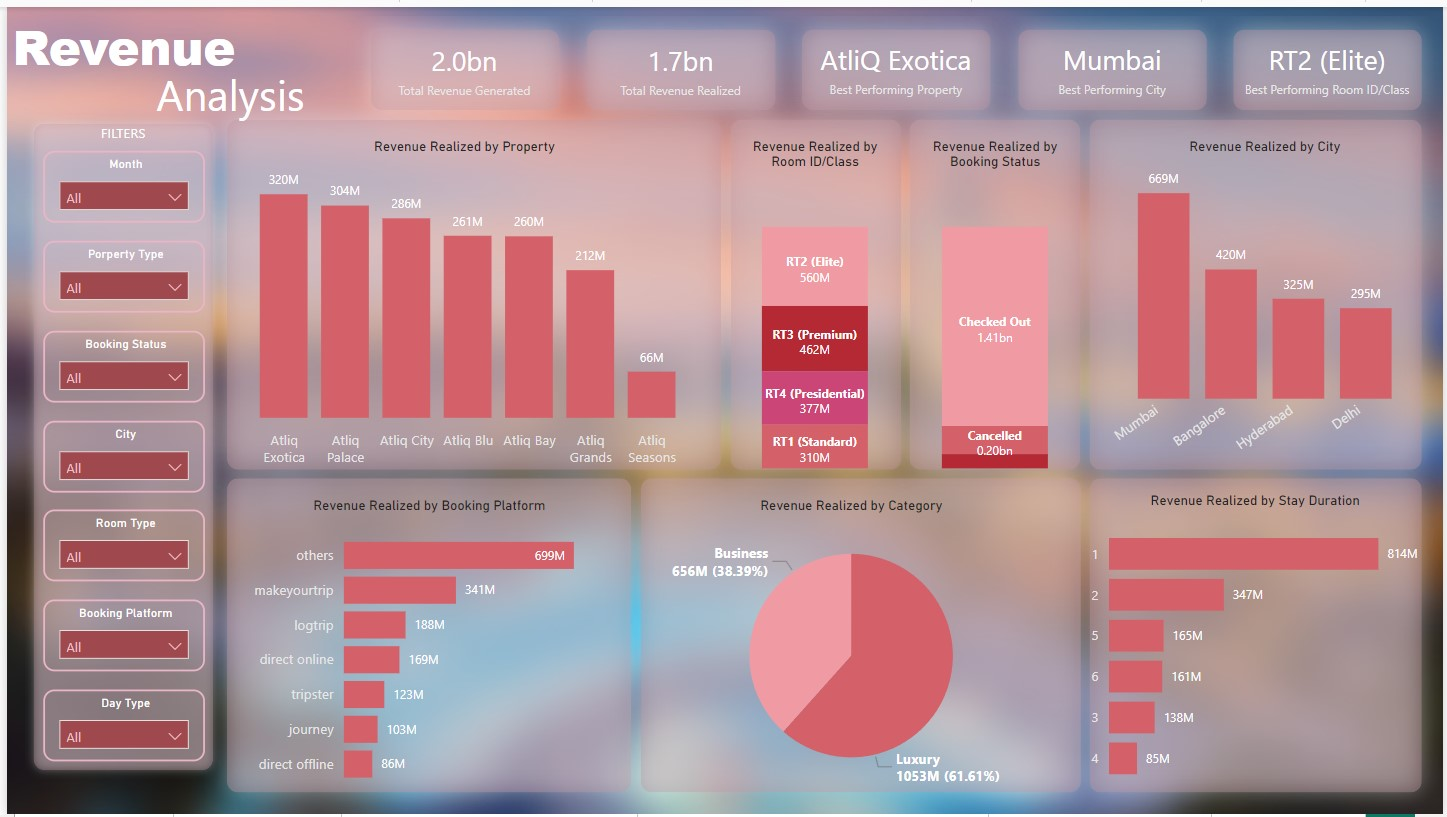

The dashboard page shown, as its layout file describes it:
{"tool":"powerbi","page":{"name":"Revenue Analysis","canvas":[1280,720],"ordinal":1},"visuals":[{"type":"shape","title":"Filters","box":[176,400,400,320],"z":0},{"type":"shape","title":"Filters","box":[544,400,432,320],"z":1000},{"type":"shape","title":"Filters","box":[944,400,336,320],"z":2000},{"type":"shape","title":"Filters","box":[944,80,336,352],"z":3000},{"type":"shape","title":"Filters","box":[784,80,192,352],"z":4000},{"type":"shape","title":"Filters","box":[624,80,192,352],"z":5000},{"type":"shape","title":"Filters","box":[304,0,208,112],"z":6000},{"type":"shape","title":"Filters","box":[496,0,208,112],"z":7000},{"type":"shape","title":"Filters","box":[688,0,208,112],"z":8000},{"type":"shape","title":"Filters","box":[880,0,208,112],"z":9000},{"type":"shape","title":"Filters","box":[1072,0,208,112],"z":10000},{"type":"shape","title":"Filters","box":[176,80,480,352],"z":11000},{"type":"shape","title":"Filters","box":[16,96,176,592],"z":12000},{"type":"barChart","title":"Revenue Realized by Booking Platform","fields":{"Category":["bookings.booking_platform"],"Y":["Sum(bookings.revenue_realized)"]},"box":[208,432,336,272],"z":13000},{"type":"columnChart","title":"Revenue Realized by Booking Status","fields":{"Y":["Sum(bookings.revenue_realized)"],"Series":["bookings.booking_status"]},"box":[816,112,128,304],"z":14000},{"type":"card","fields":{"Values":["Sum(bookings.revenue_generated)"]},"box":[320,16,176,80],"z":15000},{"type":"columnChart","title":"Revenue Realized by Room ID/Class","fields":{"Y":["Sum(bookings.revenue_realized)"],"Series":["bookings.room_id_class"]},"box":[656,112,128,304],"z":16000},{"type":"clusteredColumnChart","title":"Revenue Realized by Property","fields":{"Category":["agg_book.property_name"],"Y":["Sum(bookings.revenue_realized)"]},"box":[192,112,432,304],"z":17000},{"type":"columnChart","title":"Revenue Realized by City","fields":{"Y":["Sum(bookings.revenue_realized)"],"Category":["agg_book.city"]},"box":[976,112,288,304],"z":18000},{"type":"slicer","title":"City","fields":{"Values":["agg_book.city"]},"box":[32,368,144,64],"z":19000},{"type":"slicer","title":"Porperty Type","fields":{"Values":["agg_book.property_name"]},"box":[32,208,144,64],"z":20000},{"type":"slicer","title":"Booking Platform","fields":{"Values":["bookings.booking_platform"]},"box":[32,528,144,64],"z":21000},{"type":"slicer","title":"Month","fields":{"Values":["agg_book.Month"]},"box":[32,128,144,64],"z":22000},{"type":"slicer","title":"Day Type","fields":{"Values":["agg_book.day_type"]},"box":[32,608,144,64],"z":23000},{"type":"slicer","title":"Booking Status","fields":{"Values":["bookings.booking_status"]},"box":[32,288,144,64],"z":24000},{"type":"slicer","title":"Room Type","fields":{"Values":["agg_book.room_id_class"]},"box":[32,448,144,64],"z":25000},{"type":"barChart","title":"Revenue Realized by Stay Duration","fields":{"Y":["Sum(bookings.revenue_realized)"],"Category":["bookings.Stay duration"]},"box":[960,432,304,272],"z":26000},{"type":"pieChart","title":"Revenue Realized by Category","fields":{"Category":["agg_book.category"],"Y":["Sum(bookings.revenue_realized)"]},"box":[560,432,384,272],"z":27000},{"type":"card","fields":{"Values":["Sum(bookings.revenue_realized)"]},"box":[512,16,176,80],"z":28000},{"type":"textbox","box":[704,16,176,80],"z":29000},{"type":"textbox","box":[896,16,176,80],"z":30000},{"type":"textbox","box":[1088,16,176,80],"z":31000},{"type":"textbox","box":[0,0,240,96],"z":32000},{"type":"textbox","box":[128,48,160,64],"z":33000}]}

Visuals, with their boxes in screenshot pixels (x1, y1, x2, y2), scaled from the page's 1280x720 canvas onto the 1447x817 screenshot:
"Filters" shape: select_region(199, 454, 651, 816)
"Filters" shape: select_region(615, 454, 1103, 816)
"Filters" shape: select_region(1067, 454, 1446, 816)
"Filters" shape: select_region(1067, 91, 1446, 490)
"Filters" shape: select_region(886, 91, 1103, 490)
"Filters" shape: select_region(705, 91, 922, 490)
"Filters" shape: select_region(344, 0, 579, 127)
"Filters" shape: select_region(561, 0, 796, 127)
"Filters" shape: select_region(778, 0, 1013, 127)
"Filters" shape: select_region(995, 0, 1230, 127)
"Filters" shape: select_region(1212, 0, 1446, 127)
"Filters" shape: select_region(199, 91, 742, 490)
"Filters" shape: select_region(18, 109, 217, 781)
"Revenue Realized by Booking Platform" barChart: select_region(235, 490, 615, 799)
"Revenue Realized by Booking Status" columnChart: select_region(922, 127, 1067, 472)
card - Sum(bookings.revenue_generated): select_region(362, 18, 561, 109)
"Revenue Realized by Room ID/Class" columnChart: select_region(742, 127, 886, 472)
"Revenue Realized by Property" clusteredColumnChart: select_region(217, 127, 705, 472)
"Revenue Realized by City" columnChart: select_region(1103, 127, 1429, 472)
"City" slicer: select_region(36, 418, 199, 490)
"Porperty Type" slicer: select_region(36, 236, 199, 309)
"Booking Platform" slicer: select_region(36, 599, 199, 672)
"Month" slicer: select_region(36, 145, 199, 218)
"Day Type" slicer: select_region(36, 690, 199, 763)
"Booking Status" slicer: select_region(36, 327, 199, 399)
"Room Type" slicer: select_region(36, 508, 199, 581)
"Revenue Realized by Stay Duration" barChart: select_region(1085, 490, 1429, 799)
"Revenue Realized by Category" pieChart: select_region(633, 490, 1067, 799)
card - Sum(bookings.revenue_realized): select_region(579, 18, 778, 109)
textbox: select_region(796, 18, 995, 109)
textbox: select_region(1013, 18, 1212, 109)
textbox: select_region(1230, 18, 1429, 109)
textbox: select_region(0, 0, 271, 109)
textbox: select_region(145, 54, 326, 127)
